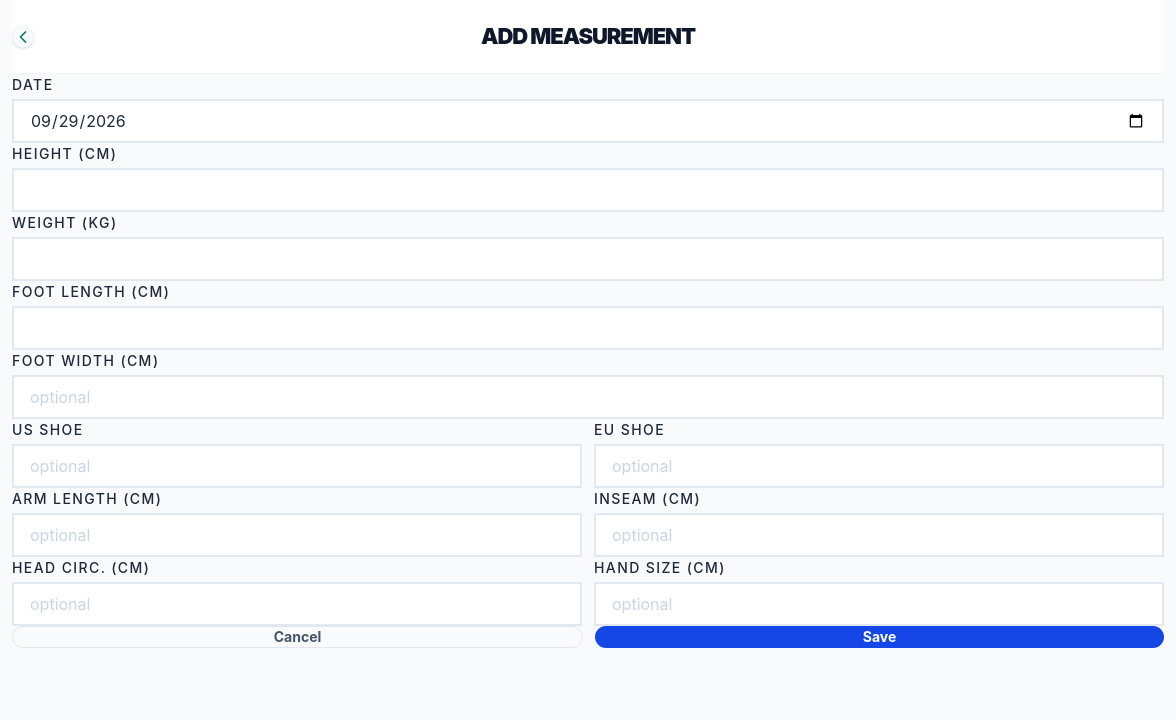
Scenario: EditMeasurementEntryScreen › add mode › validation › shows error when date is cleared
This screenshot has width=1176, height=720.
Clear the date field labelled "Date" at (588, 121), box [12,99,1164,143]
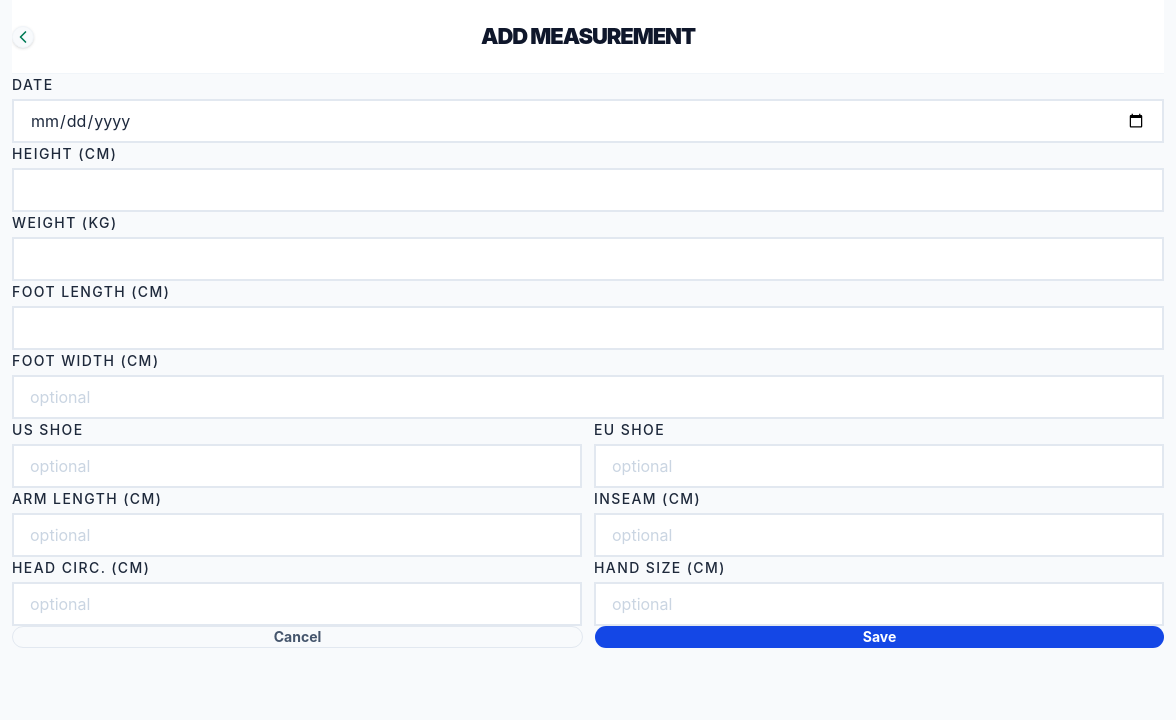
Type "142" into the number field labelled "Height (cm)".
click(588, 190); type("142")  # box [12,168,1164,212]
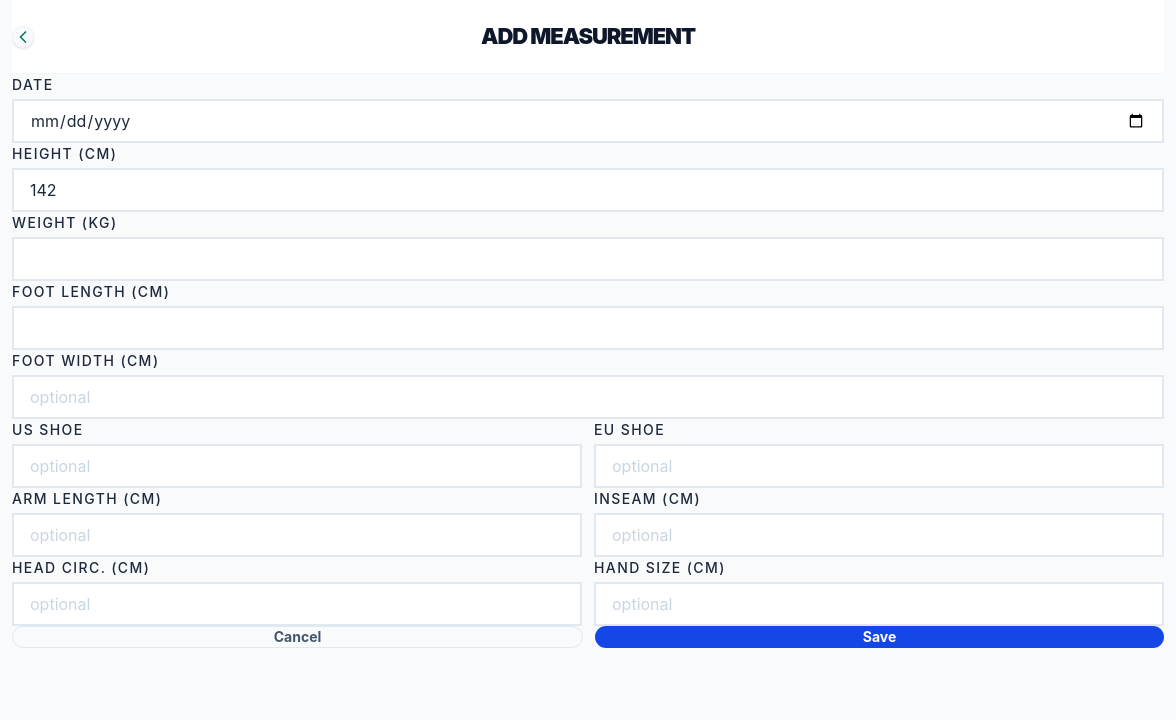
Type "38" into the number field labelled "Weight (kg)".
click(588, 259); type("38")  # box [12,237,1164,281]
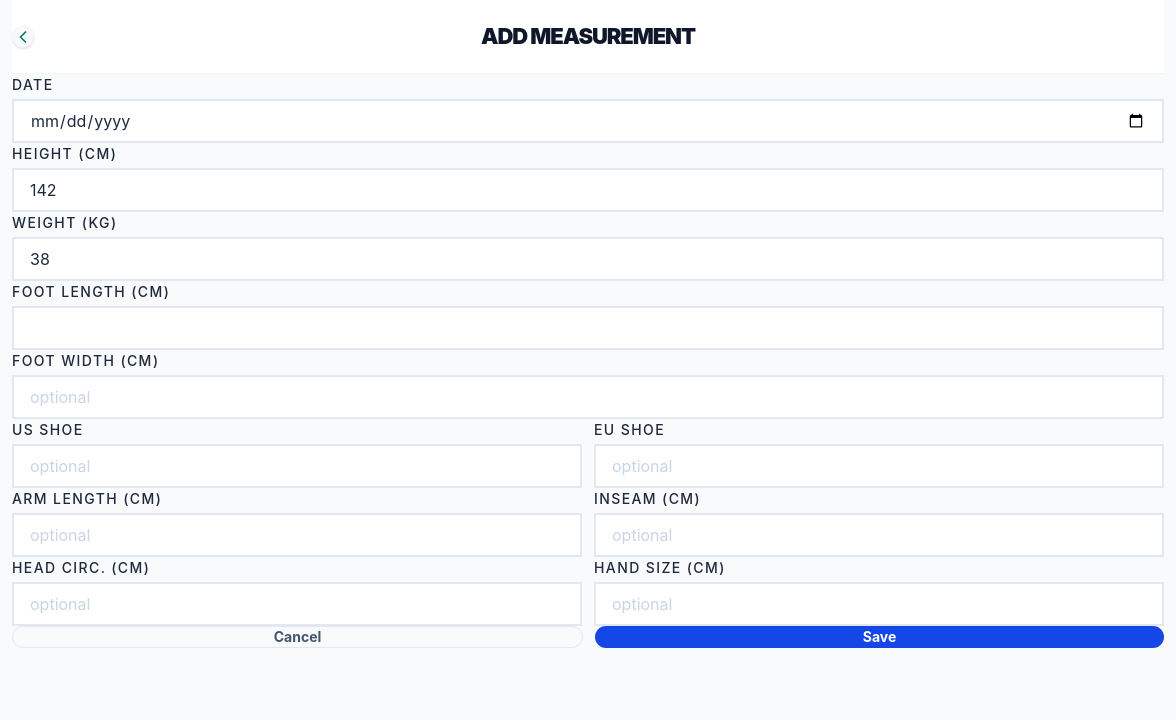
Type "22" into the number field labelled "Foot Length (cm)".
click(588, 328); type("22")  # box [12,306,1164,350]
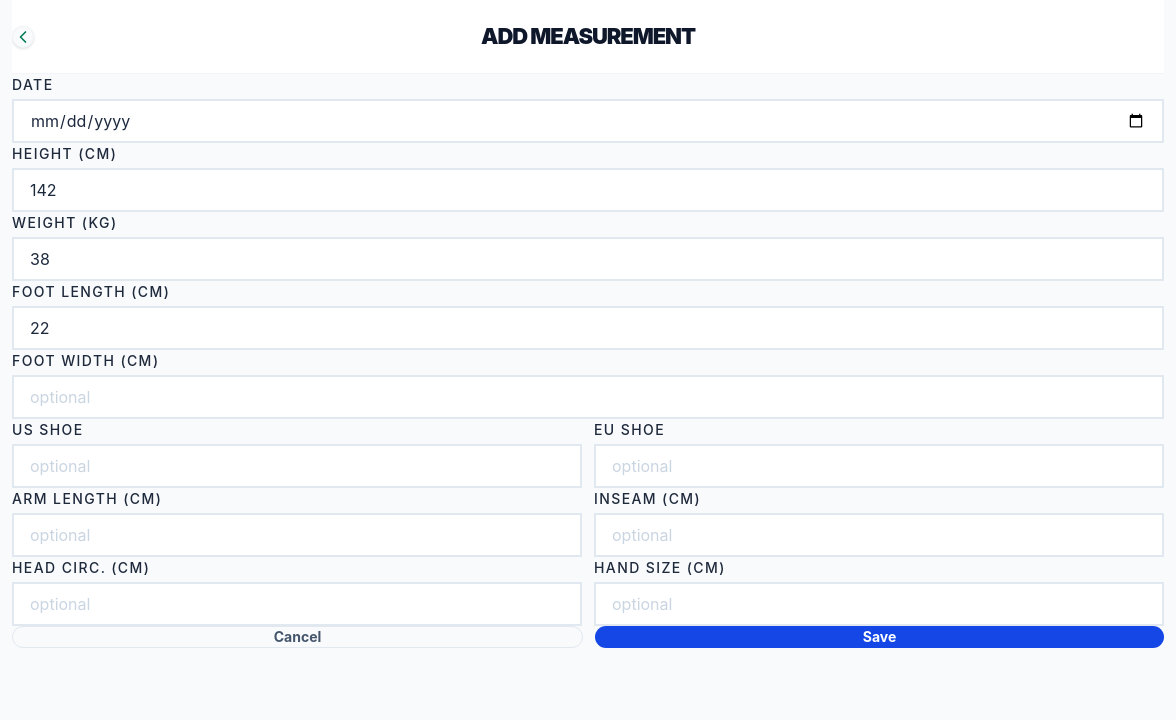
Click the button "Save".
click(880, 637)  # box [595,626,1164,648]
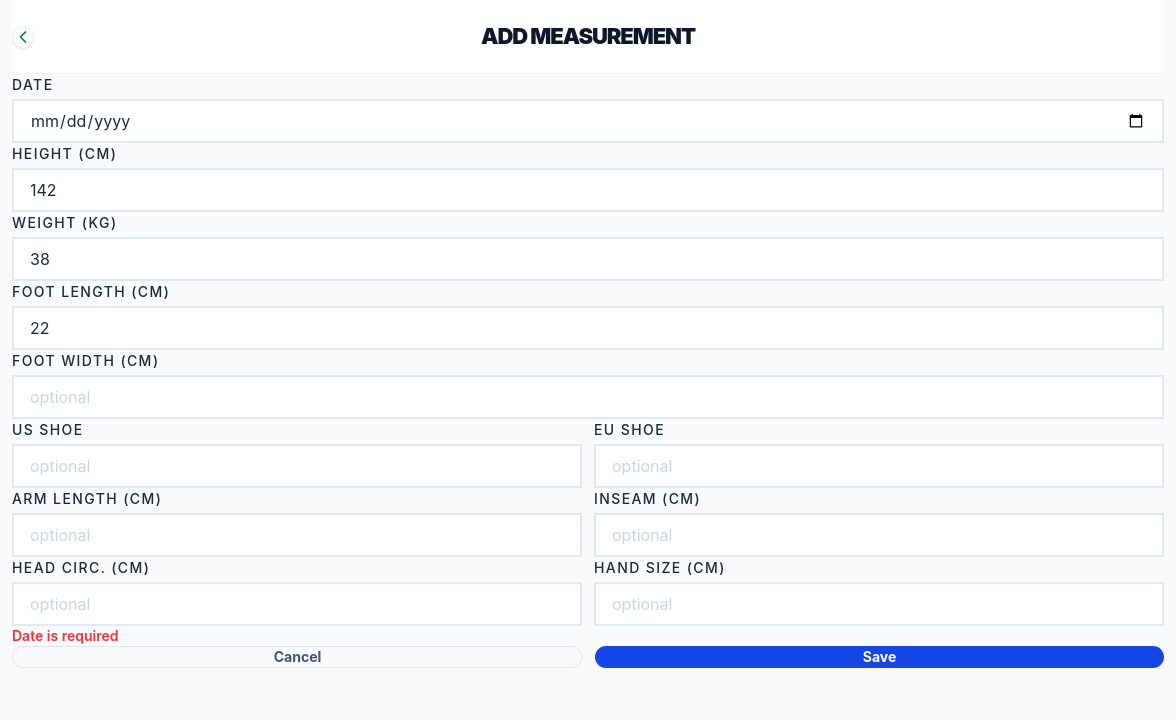
Expected: the text "Date is required" is shown, [12,627,118,644]
